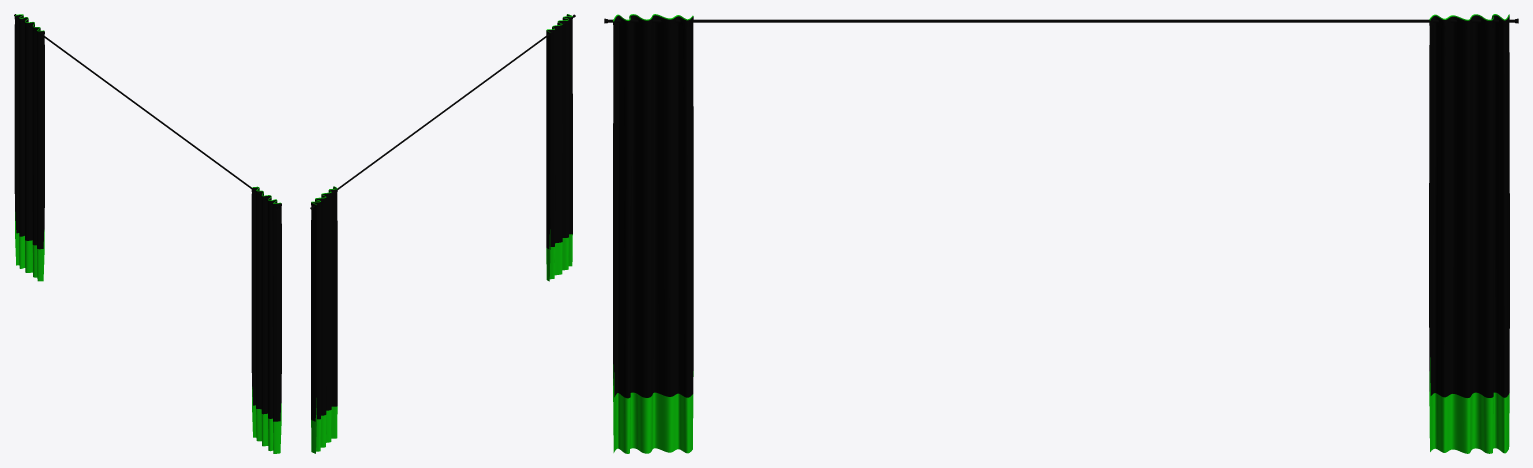
The model's file is GR6_Curtain.fbx.
The picture shows the model from 3 angles, left to right: view 1: azimuth 30°, elevation 25°; view 2: azimuth 150°, elevation 25°; view 3: azimuth 270°, elevation 25°; orthographic projection. The views are drawn at different scales.
Visible parts, largest first — view 1: GR6_Curtain; view 2: GR6_Curtain; view 3: GR6_Curtain.
Boxes of the visible parts, left/top/right/bottom form: GR6_Curtain: left=14, top=14, right=281, bottom=453; GR6_Curtain: left=310, top=14, right=575, bottom=453; GR6_Curtain: left=604, top=14, right=1518, bottom=453.
Size of the model in its own units: 9.38 by 260 by 495.
